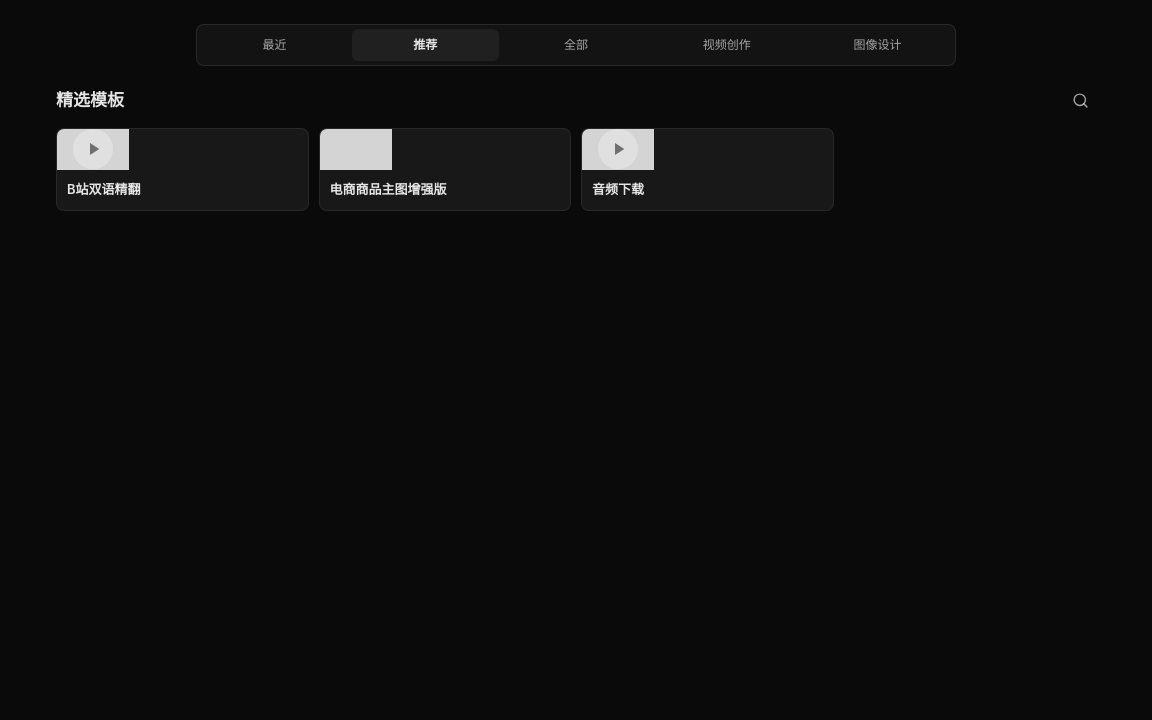
Test: CreatorDashboard › copies the raw prompt from the detail card
The image size is (1152, 720).
Click the button with aria-label "查看电商商品主图增强版模板详情" at coordinates (445, 169), box [318,128,571,210]
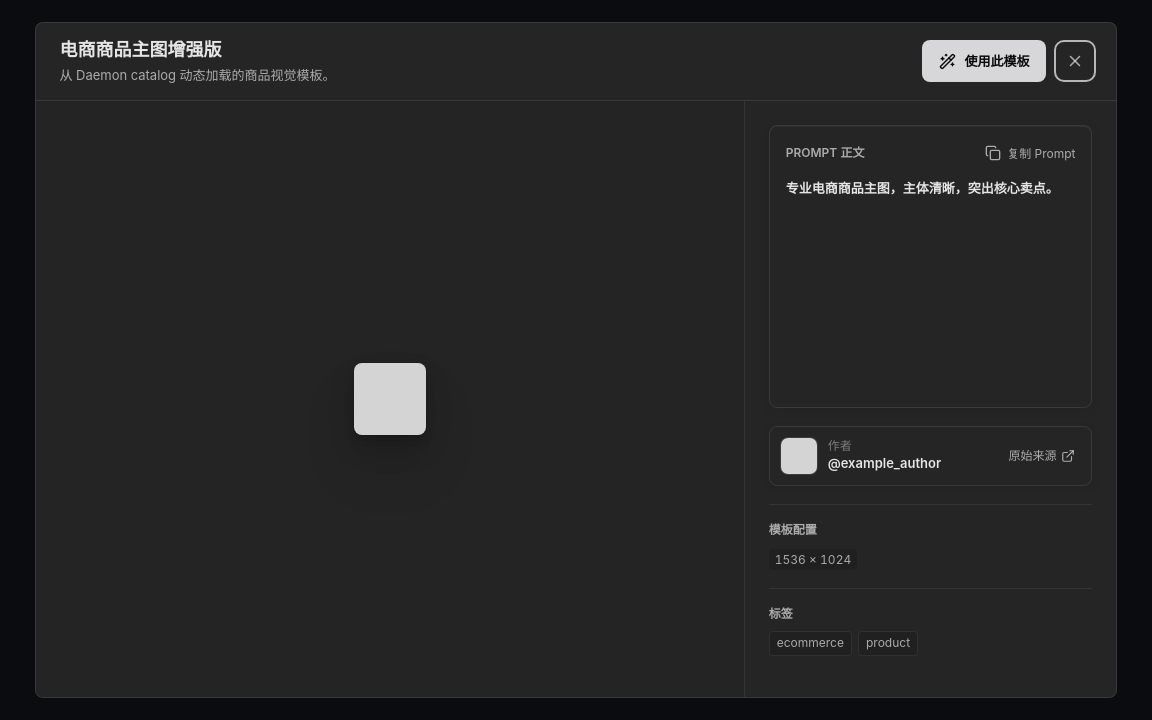
Click the button "复制 Prompt" at coordinates (1027, 153), box [979,140,1076,167]
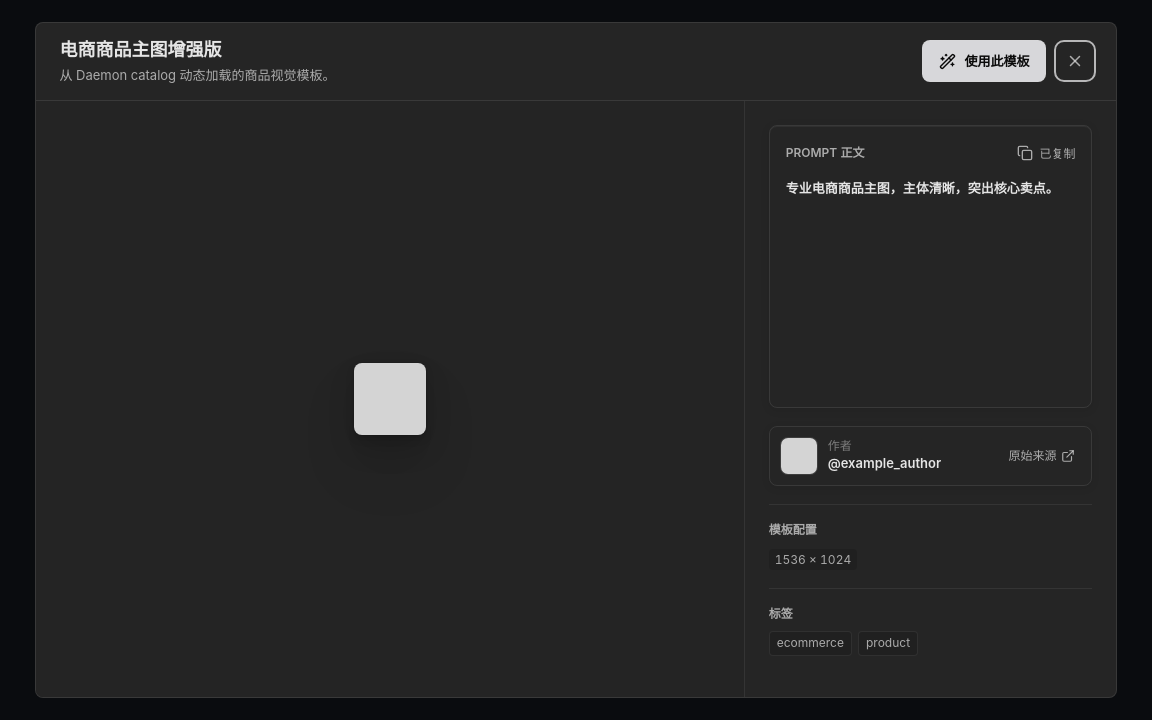
Expected: the button "已复制" is shown, [1011,140,1075,167]
